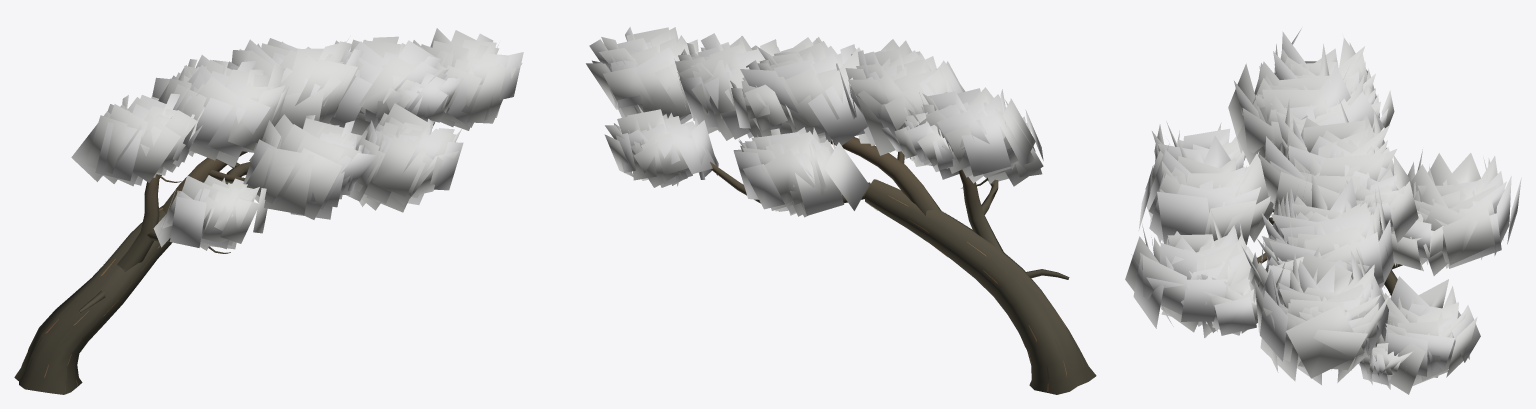
3 views of the same model, side by side, from view 1: azimuth 30°, elevation 25°; view 2: azimuth 150°, elevation 25°; view 3: azimuth 270°, elevation 25° (orthographic). The views are drawn at different scales.
Parts seen in each view (by area): view 1: crown, trunk; view 2: crown, trunk; view 3: crown, trunk.
Boxes of the visible parts, <box> form: crown: <box>71,28,523,250</box>; trunk: <box>14,151,250,394</box>; crown: <box>586,27,1043,217</box>; trunk: <box>710,137,1096,394</box>; crown: <box>1125,28,1521,394</box>; trunk: <box>1257,210,1402,295</box>.
Bounding box in the file's own units: 9.95 × 5.45 × 5.14.
